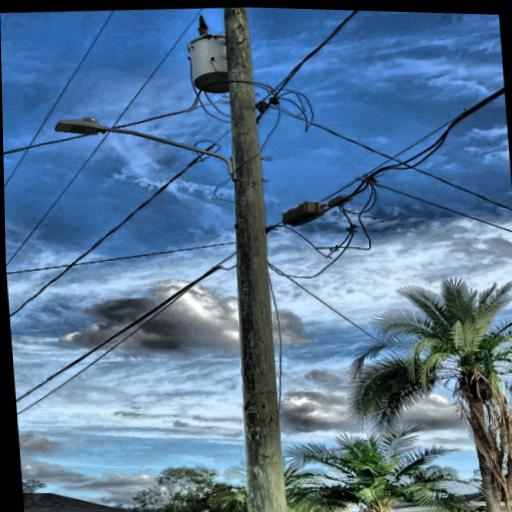pole: (191, 6, 299, 512)
street light: (47, 103, 245, 199)
transformer: (183, 29, 241, 98)
